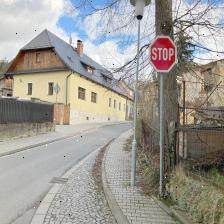Stop: (149, 36, 177, 72)
